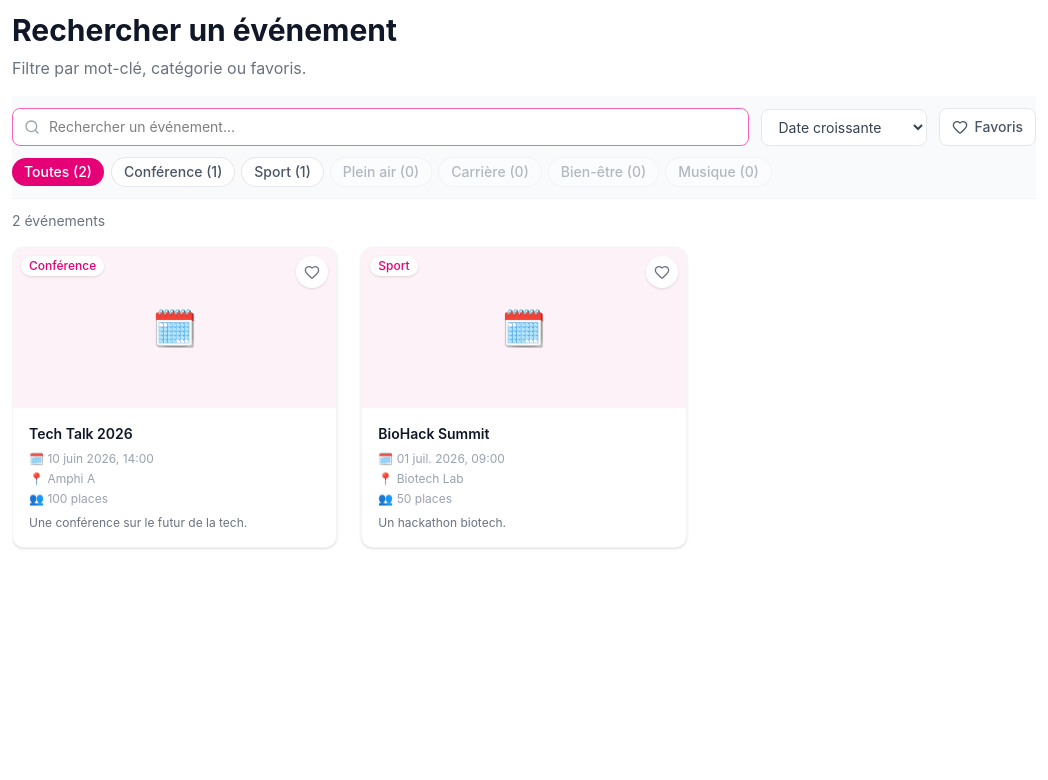
Test: EventsPage › filters the list by search term
Expected: the heading "Tech Talk 2026" is shown, [29,425,133,442]
Type "BioHack" into the field with placeholder "Rechercher un événement…" at (381, 127), box [12,108,750,146]
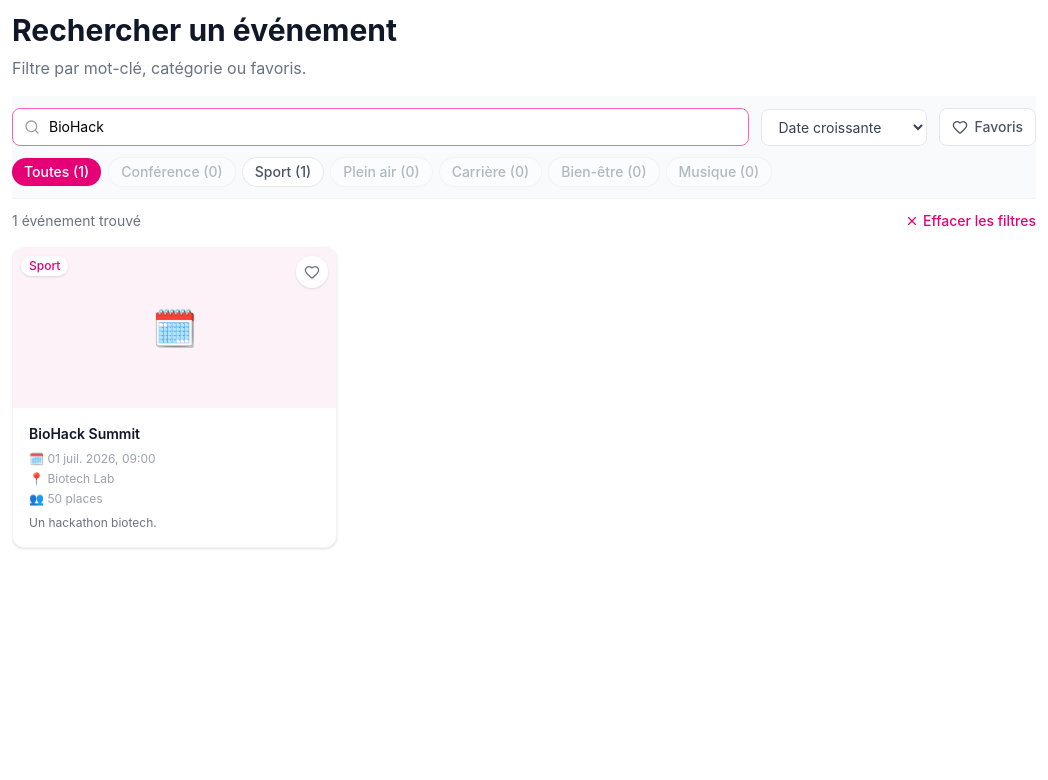
Expected: the heading "BioHack Summit" is shown, [29,425,140,442]
Expected: the link "Tech Talk 2026" is gone
